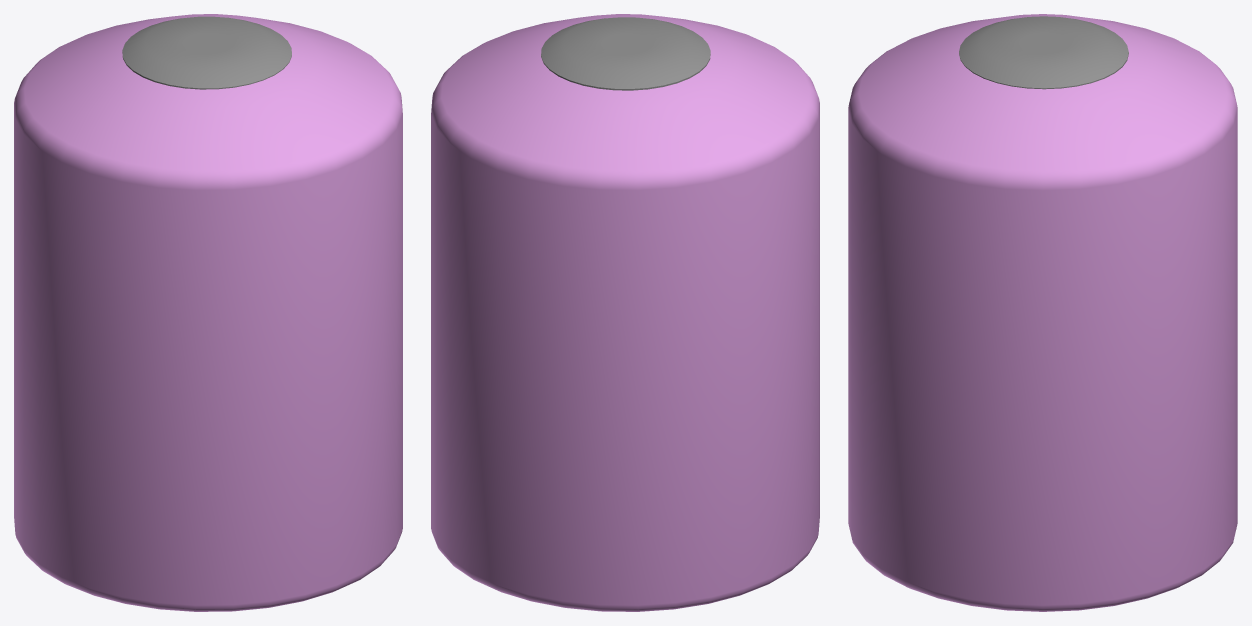
Rendered from SM_Shampoo_Bottom_B.fbx.
The picture shows the model from 3 angles, left to right: view 1: azimuth 30°, elevation 25°; view 2: azimuth 150°, elevation 25°; view 3: azimuth 270°, elevation 25°; orthographic projection.
Visible parts, largest first — view 1: Cylinder.004, Cylinder.007; view 2: Cylinder.004, Cylinder.007; view 3: Cylinder.004, Cylinder.007.
Part boxes in pixels (left/top/right/bottom): Cylinder.004: left=14, top=14, right=402, bottom=611; Cylinder.007: left=122, top=16, right=291, bottom=89; Cylinder.004: left=431, top=14, right=819, bottom=611; Cylinder.007: left=541, top=17, right=710, bottom=90; Cylinder.004: left=848, top=14, right=1237, bottom=611; Cylinder.007: left=959, top=16, right=1128, bottom=89.
Size of the model in its own units: 73.49 by 102 by 73.49.
